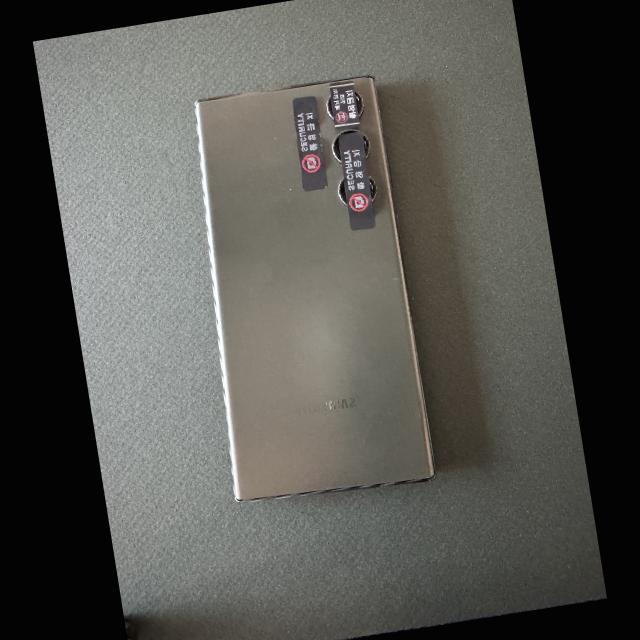lens: (332, 129, 358, 163), (338, 178, 346, 205), (355, 93, 362, 115)
phone: (195, 76, 435, 501)
sticker: (291, 95, 329, 192), (339, 131, 375, 231), (329, 81, 360, 130)
